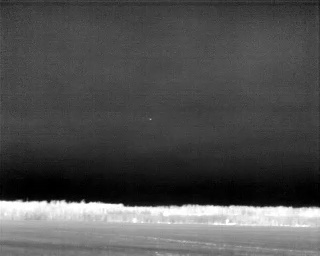HELICOPTER: (148, 116, 154, 122)
